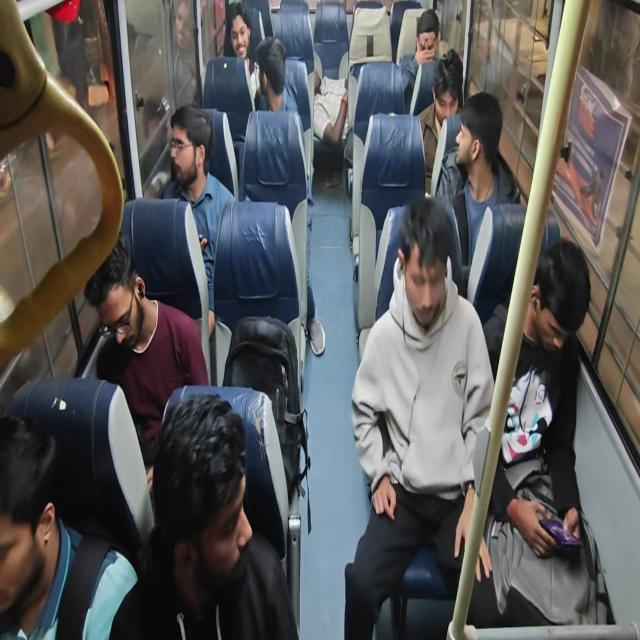person: (1, 2, 610, 637), (344, 195, 495, 638), (464, 236, 603, 628), (0, 0, 123, 376), (139, 392, 299, 639), (83, 229, 209, 488), (0, 412, 141, 639), (253, 36, 326, 355), (162, 104, 235, 337), (435, 90, 521, 282), (417, 48, 464, 190), (399, 8, 440, 111), (223, 2, 261, 105), (170, 0, 202, 108), (254, 36, 298, 113), (312, 71, 349, 145)
